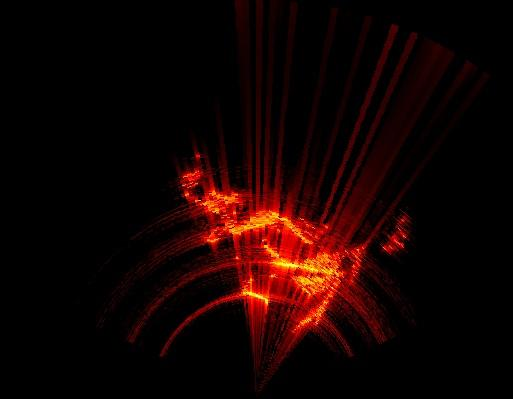shipwreck: (263, 239, 362, 328), (207, 211, 312, 242), (182, 171, 234, 214), (243, 277, 268, 303)
